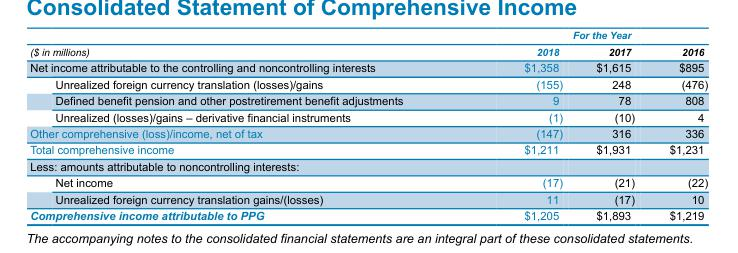table: (29, 29, 707, 221)
table column: (29, 29, 462, 221), (462, 29, 578, 221), (578, 29, 651, 221), (651, 29, 707, 221)
table column header: (29, 29, 707, 58)
table projected row header: (29, 157, 707, 174)
table row: (29, 58, 707, 75), (29, 75, 707, 92), (29, 124, 707, 141), (29, 157, 707, 174), (29, 42, 707, 58), (29, 92, 707, 108), (29, 108, 707, 124), (29, 141, 707, 157), (29, 174, 707, 190), (29, 190, 707, 206), (29, 206, 707, 221), (29, 29, 707, 42)
table spanning cell: (29, 29, 462, 58), (462, 29, 707, 42)
